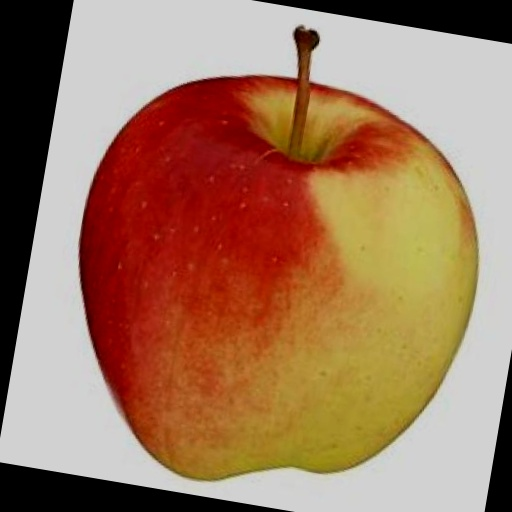fruit: (80, 29, 477, 479)
